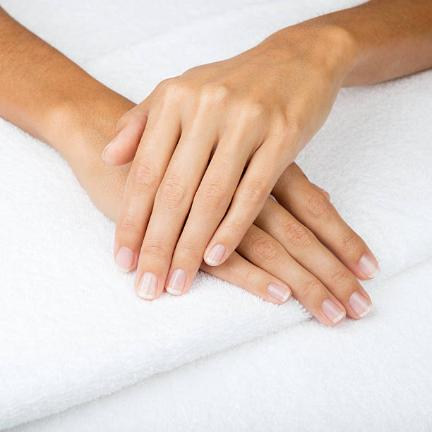Nail: (136, 272, 158, 299), (321, 299, 345, 323), (349, 292, 371, 317), (166, 268, 186, 295), (358, 254, 379, 279), (117, 247, 135, 272), (206, 243, 226, 265), (267, 283, 290, 302)
